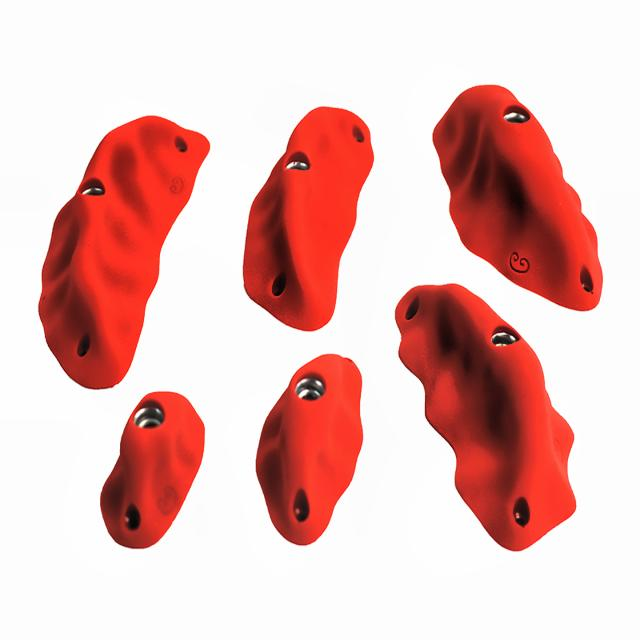Hold: (398, 283, 582, 554), (40, 119, 209, 381), (436, 81, 611, 312), (248, 101, 357, 332), (253, 350, 369, 546), (95, 388, 206, 548)
